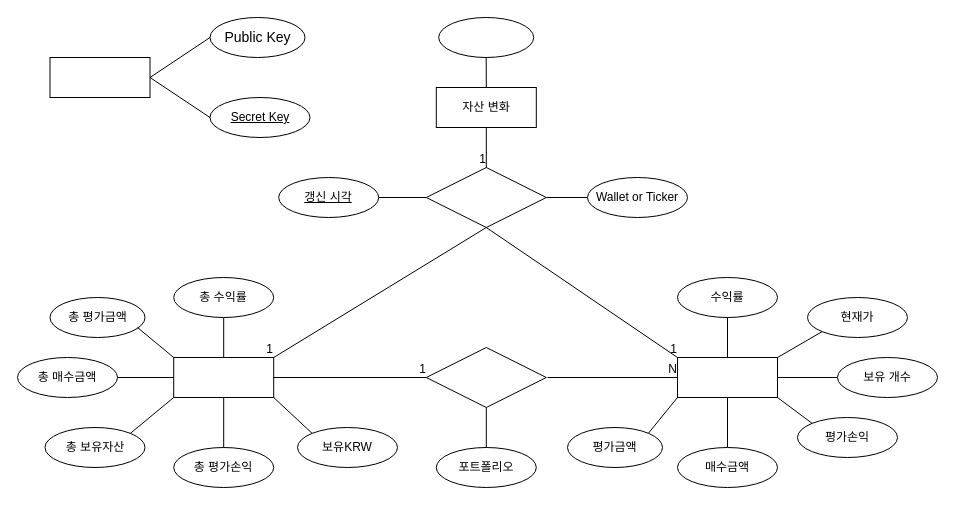
The diagram is 955 pixels wide and 505 high, and some of its shapes have lost their labels. Here are the shapes that lost their labels. From the top down, the centre of each, then its label:
At pixel 486 37: "수익률 변화율".
At pixel 99 77: "API Key".
At pixel 485 197: "갱신".
At pixel 223 377: "자산".
At pixel 485 377: "매수/매도".
At pixel 727 377: "Ticker".
